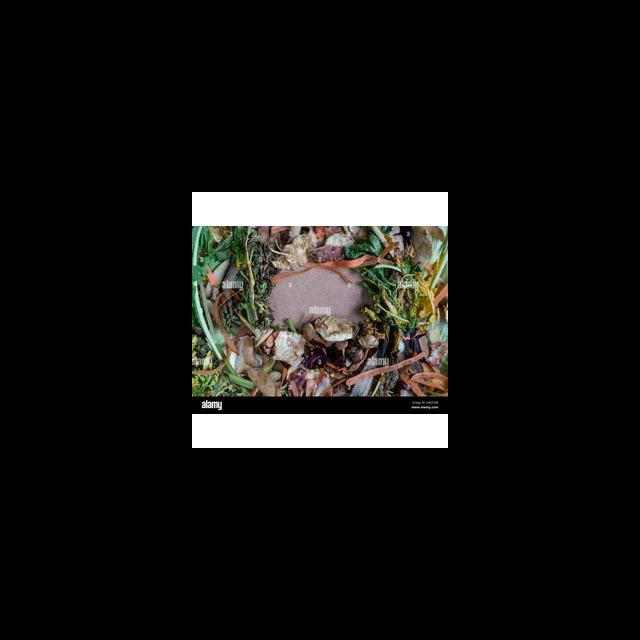food_waste: (192, 222, 252, 403), (222, 223, 409, 272), (348, 218, 448, 276), (329, 359, 448, 398), (232, 320, 306, 371), (339, 303, 400, 354), (316, 300, 345, 353)
